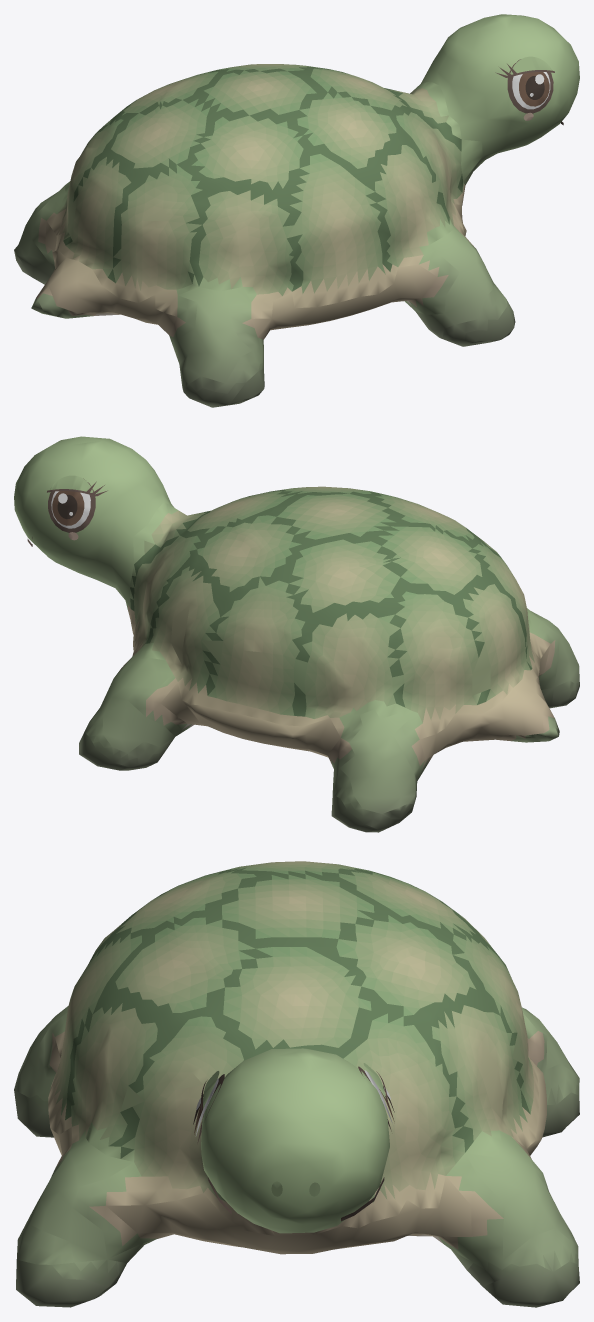
File: turtle.glb
The picture shows the model from 3 angles, top to bottom: view 1: azimuth 30°, elevation 25°; view 2: azimuth 150°, elevation 25°; view 3: azimuth 270°, elevation 25°; orthographic projection. The views are drawn at different scales.
Parts seen in each view (by area): view 1: turtle; view 2: turtle; view 3: turtle.
Boxes of the visible parts, x1=… form: turtle: x1=14, y1=14, x2=579, y2=407; turtle: x1=14, y1=436, x2=579, y2=832; turtle: x1=14, y1=861, x2=579, y2=1307.
Size of the model in its own units: 0.5235 by 0.2164 by 0.3463.
